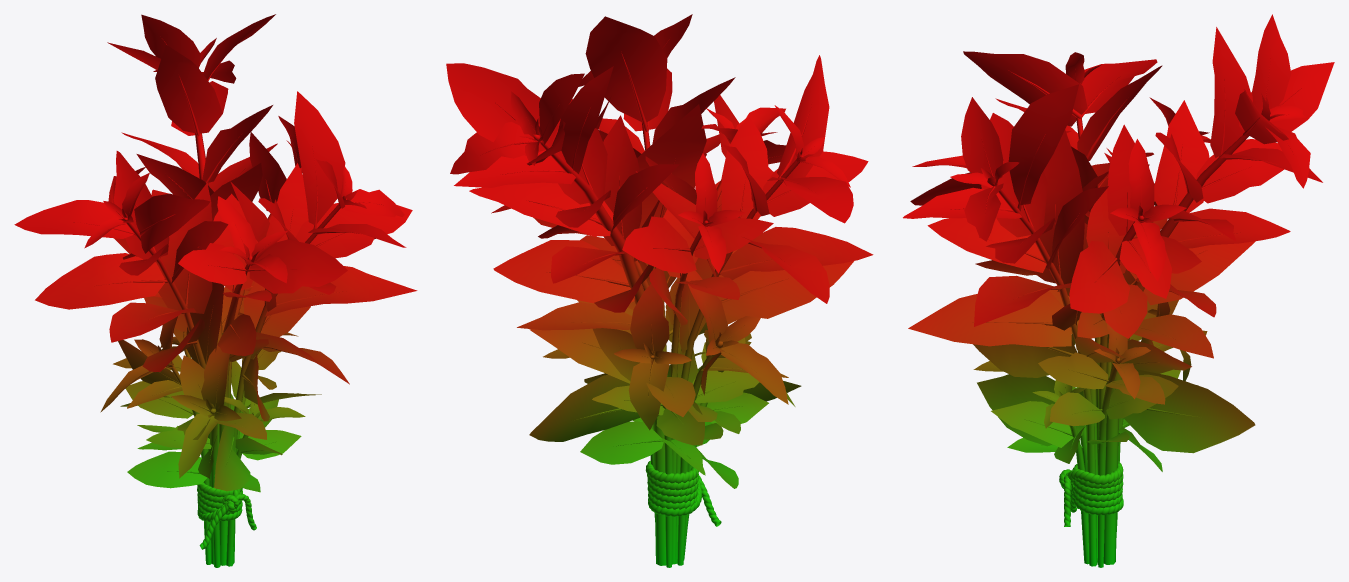
The model's file is Var6_LOD1.fbx.
The picture shows the model from 3 angles, left to right: view 1: azimuth 30°, elevation 25°; view 2: azimuth 150°, elevation 25°; view 3: azimuth 270°, elevation 25°; orthographic projection. The views are drawn at different scales.
Parts seen in each view (by area): view 1: _z5si_Var6_LOD1; view 2: _z5si_Var6_LOD1; view 3: _z5si_Var6_LOD1.
Boxes of the visible parts, x1=… form: _z5si_Var6_LOD1: x1=14, y1=14, x2=417, y2=567; _z5si_Var6_LOD1: x1=446, y1=14, x2=873, y2=567; _z5si_Var6_LOD1: x1=903, y1=14, x2=1334, y2=567.
Bounding box in the file's own units: 20.41 × 28.71 × 20.55.
